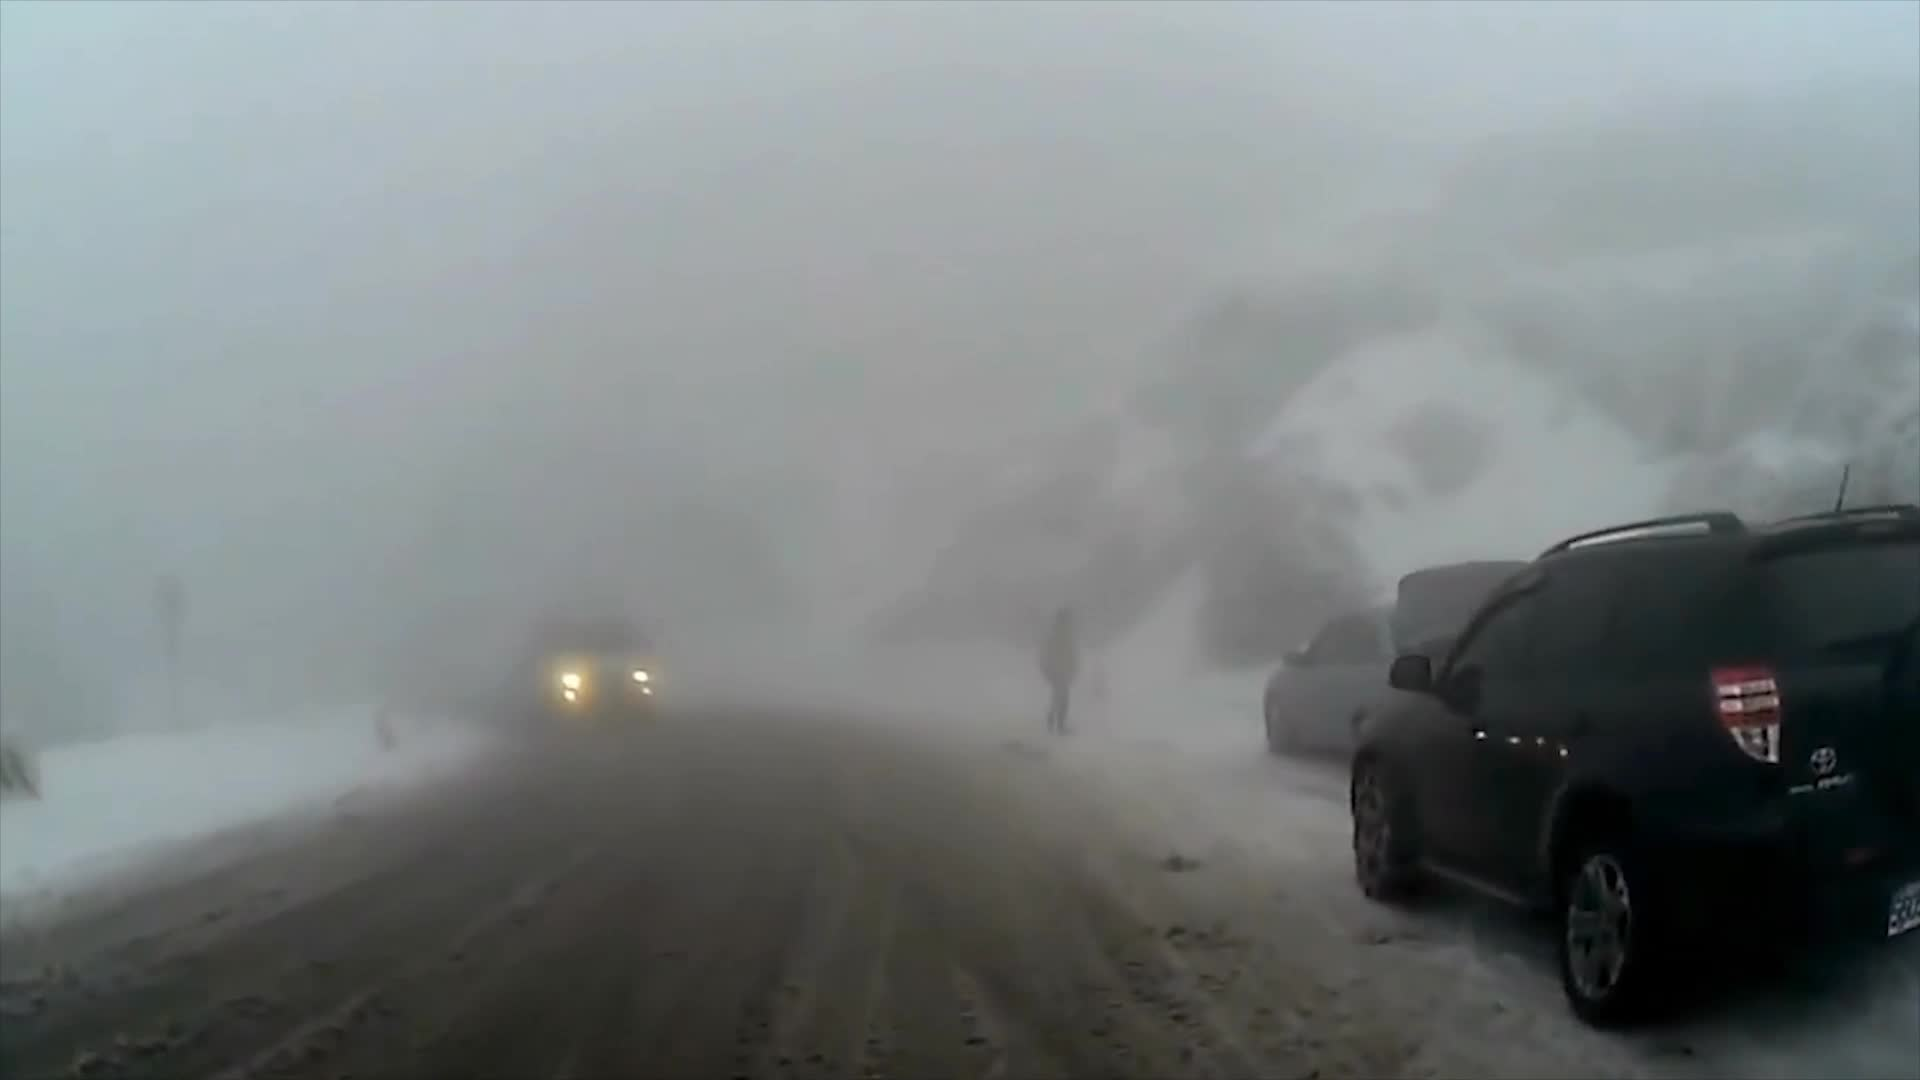pedestrian: (1034, 614, 1080, 731)
vehicle: (1346, 503, 1920, 1031), (1258, 557, 1580, 775), (525, 597, 660, 723)
